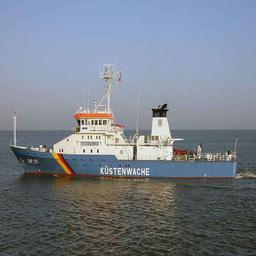Ship: (13, 75, 241, 184)
